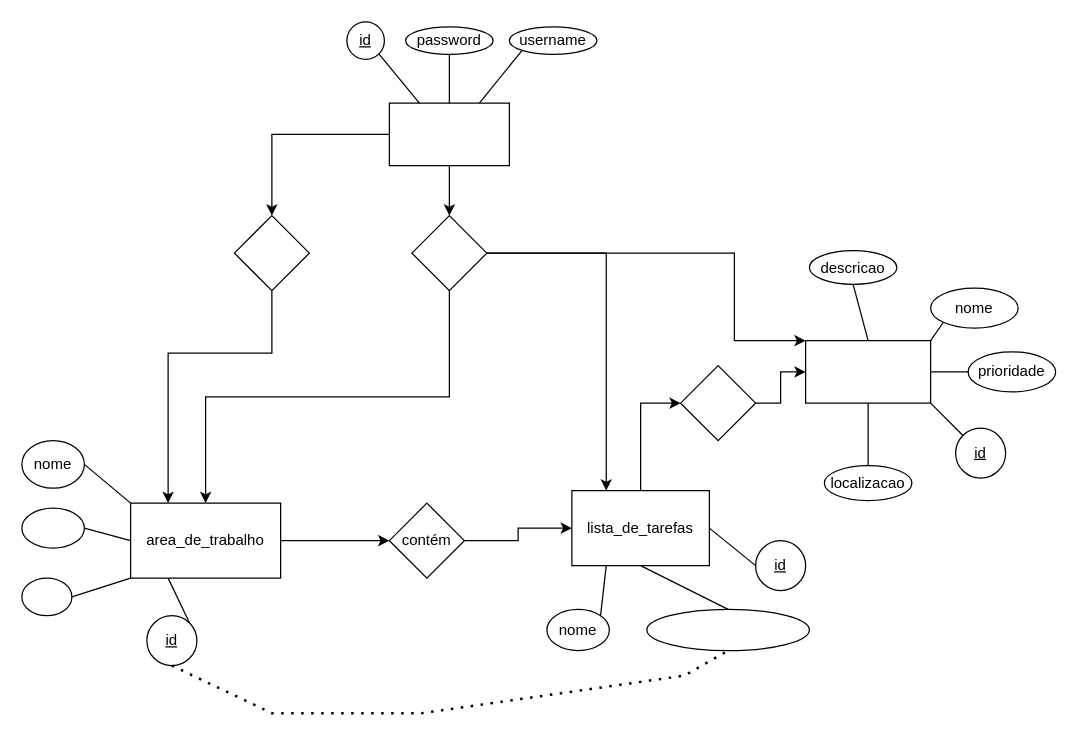
The diagram is 1078 pixels wide and 738 high, and some of its shapes have lost their labels. The shapes that lost their labels are listed below. From the top down, each one's centre as x and y in pixels, then its label:
point (448, 134): Pessoa
point (271, 252): acessa
point (449, 252): cria
point (867, 371): Tarefa
point (717, 402): possui
point (52, 527): acesso
point (46, 596): dono
point (727, 629): id area_de_trabalho
